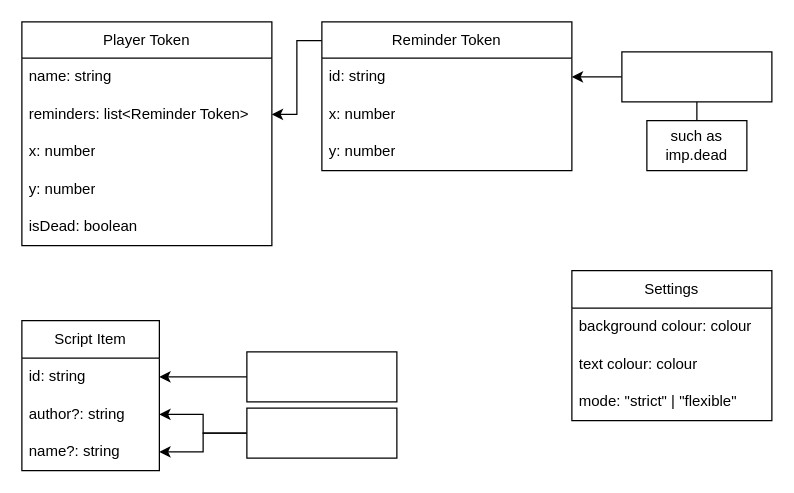
Some shapes in this 794 by 493 pixel diagram are drawn without their labels. The shapes that lost their labels are listed below. From the top down, each one's centre as x and y in pixels, then its label:
point 696,76: in the format of "character.reminder"
point 321,376: character's id or "_meta"
point 321,432: only present if id is "_meta"
